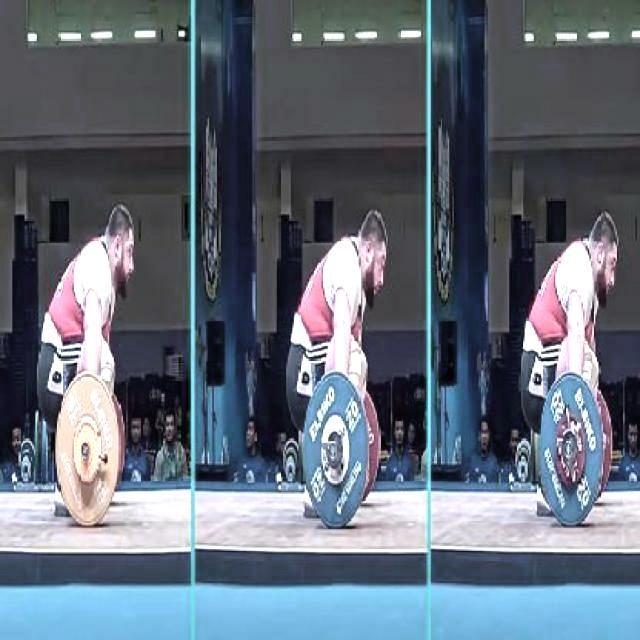barbell: (298, 369, 374, 537), (534, 370, 610, 534), (53, 370, 126, 537)
